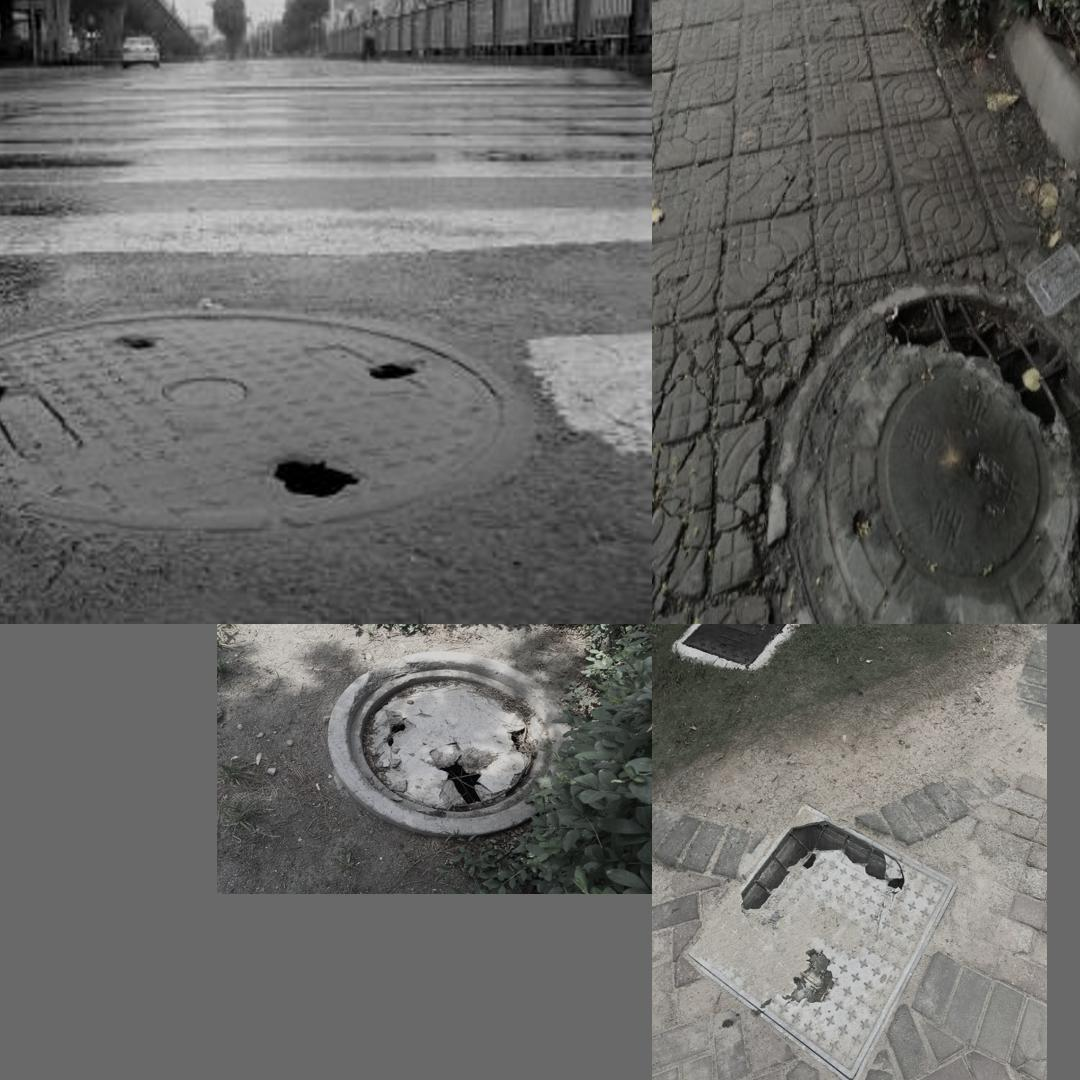broke: (759, 279, 1080, 624), (0, 329, 585, 518), (679, 802, 956, 1080), (320, 650, 587, 837)
